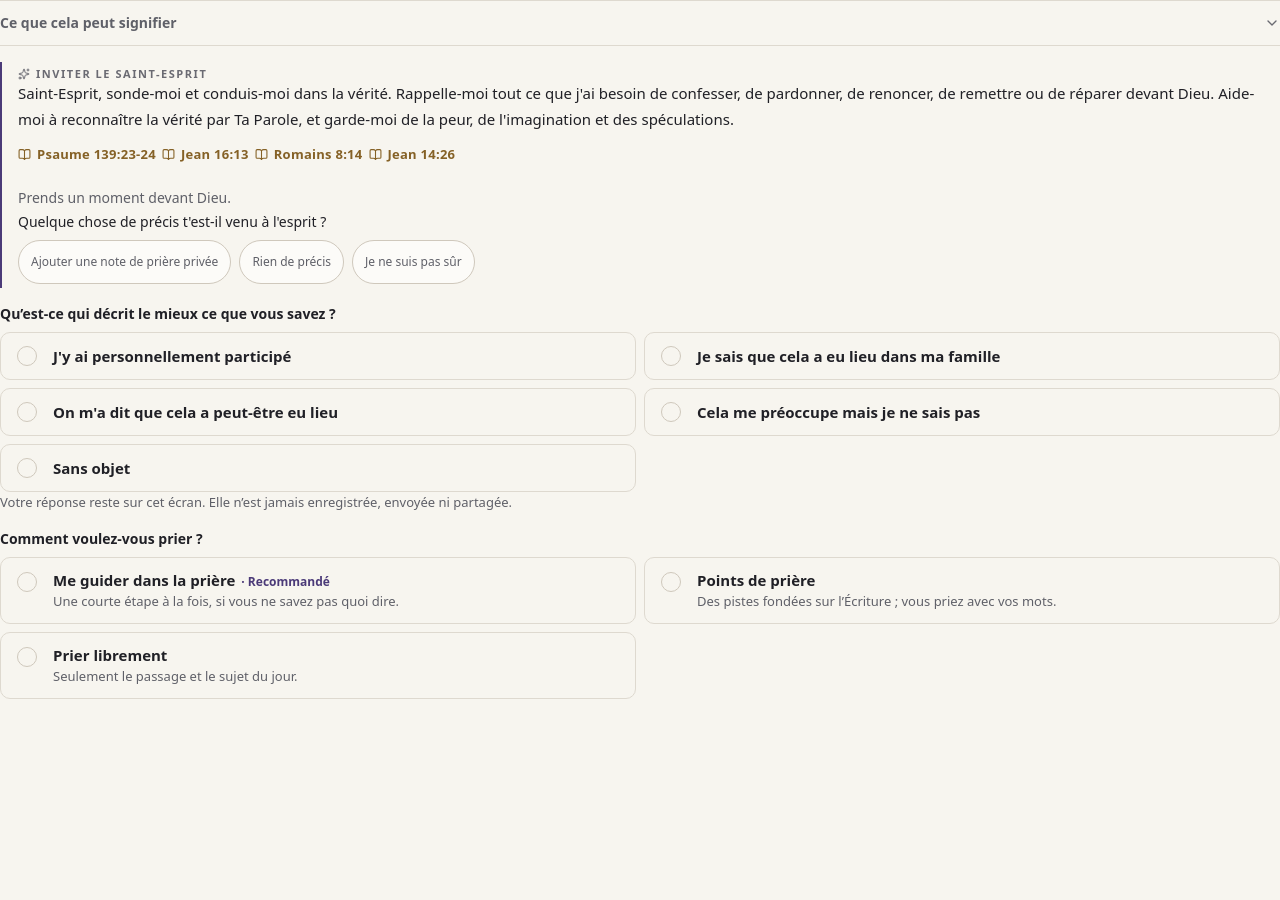
Test: the guided walk › opens on step 1, labels the prayer as ours rather than as Scripture, and can be paused
Click the text "Me guider dans la prière".
click(191, 580)  # box [53, 570, 330, 590]
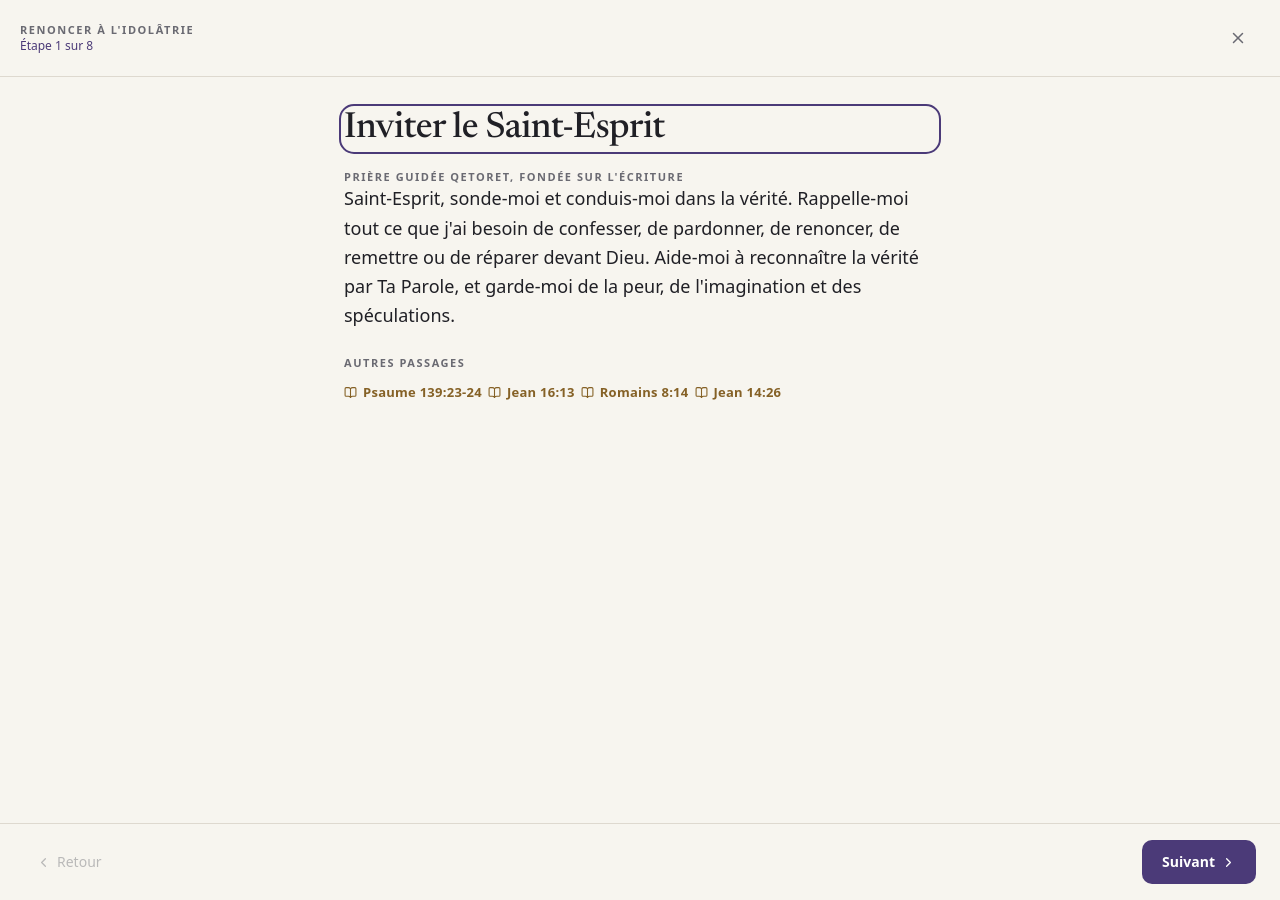
expect the text "Étape 1 sur 8" is shown: met, box [20, 37, 93, 54]
expect the text "Prière guidée Qetoret, fondée sur l'Écriture" is shown: met, box [344, 169, 684, 184]
Click the button named "Pause".
click(1238, 38)  # box [1216, 16, 1260, 60]
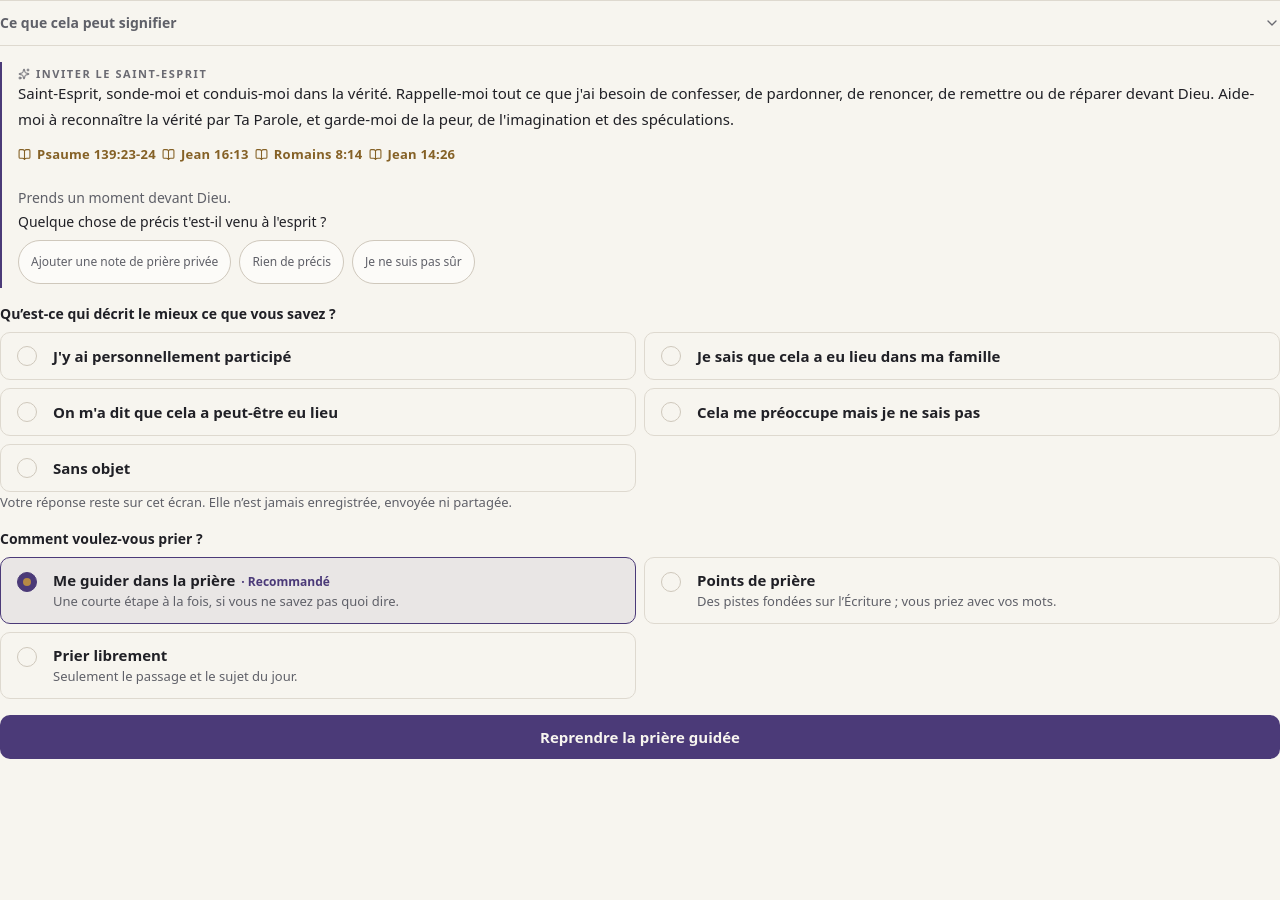
expect the dialog is gone: met
